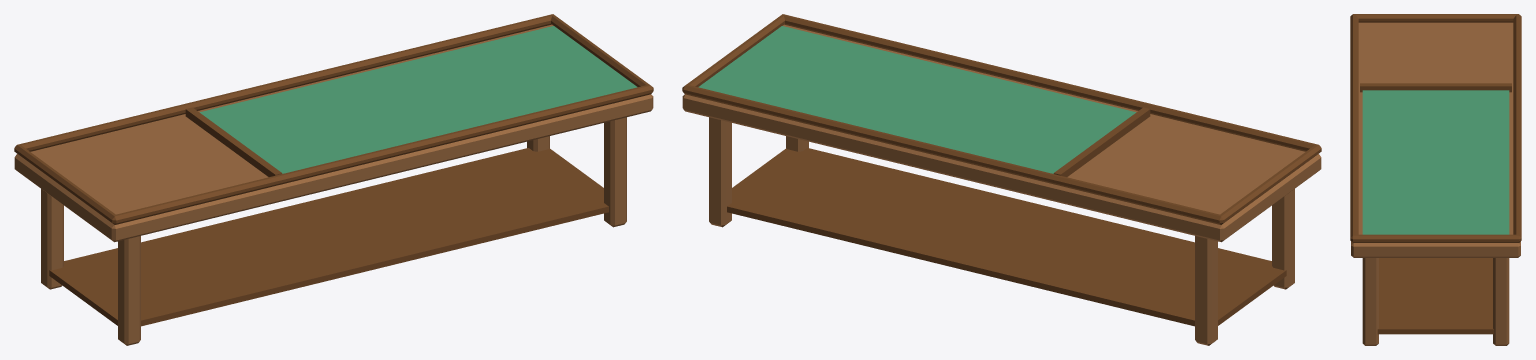
The model's file is roulette_table.glb.
3 views of the same model, side by side, from view 1: azimuth 30°, elevation 25°; view 2: azimuth 150°, elevation 25°; view 3: azimuth 270°, elevation 25° (orthographic). The views are drawn at different scales.
Parts seen in each view (by area): view 1: roulette_table; view 2: roulette_table; view 3: roulette_table.
Boxes of the visible parts, x1,y1,x2,y2 form: roulette_table: [14, 14, 653, 345]; roulette_table: [682, 14, 1321, 345]; roulette_table: [1350, 14, 1521, 345].
Size of the model in its own units: 3.9 by 0.96 by 1.26.
